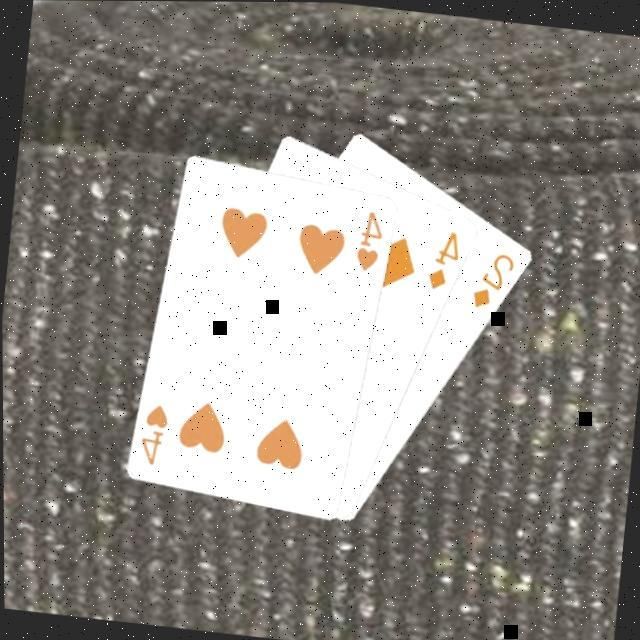2D: (468, 248, 520, 316)
4D: (423, 227, 465, 296)
4H: (136, 400, 172, 471), (352, 207, 388, 276)
